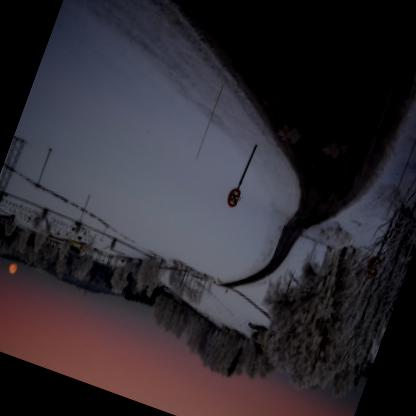speedlimit: (225, 190, 243, 212)
